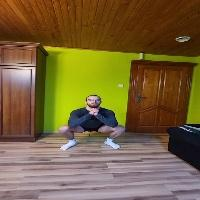squats: (52, 82, 129, 157)
